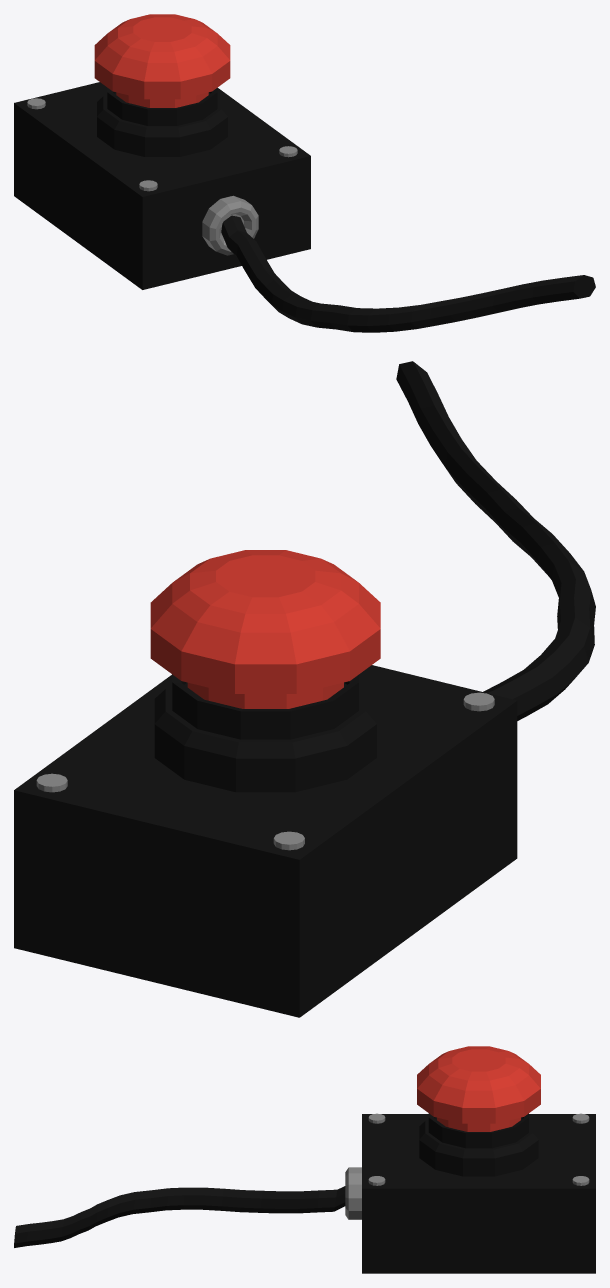
The picture shows the model from 3 angles, top to bottom: view 1: azimuth 30°, elevation 25°; view 2: azimuth 150°, elevation 25°; view 3: azimuth 270°, elevation 25°; orthographic projection. The views are drawn at different scales.
Visible parts, largest first — view 1: node_MeshObject-1891350784-PolyPaper23; view 2: node_MeshObject-1891350784-PolyPaper23; view 3: node_MeshObject-1891350784-PolyPaper23.
Part boxes in pixels (bbox=[...]): node_MeshObject-1891350784-PolyPaper23: bbox=[14, 14, 595, 332]; node_MeshObject-1891350784-PolyPaper23: bbox=[14, 361, 595, 1017]; node_MeshObject-1891350784-PolyPaper23: bbox=[14, 1046, 595, 1273].
Bounding box in the file's own units: 0.8255 × 0.5798 × 1.74.
